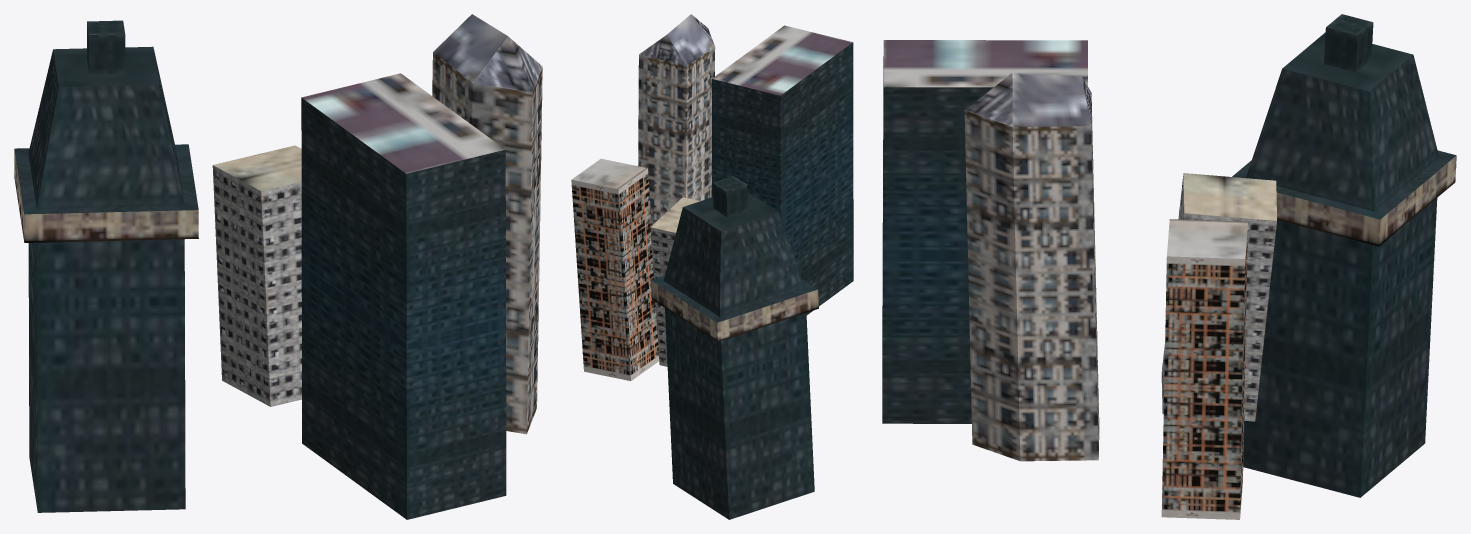
Rendered from Building11.fbx.
3 renders of one model, left to right at view 1: azimuth 30°, elevation 25°; view 2: azimuth 150°, elevation 25°; view 3: azimuth 270°, elevation 25°, orthographic. The views are drawn at different scales.
Visible parts, largest first — view 1: newassets_E_BuildingsAlleyR; view 2: newassets_E_BuildingsAlleyR; view 3: newassets_E_BuildingsAlleyR.
Boxes of the visible parts, <box> form: newassets_E_BuildingsAlleyR: <box>14,14,542,519</box>; newassets_E_BuildingsAlleyR: <box>571,14,853,519</box>; newassets_E_BuildingsAlleyR: <box>882,14,1456,519</box>.
Bounding box in the file's own units: 18062 × 22733 × 23787.
2 materials, 2 textured.
